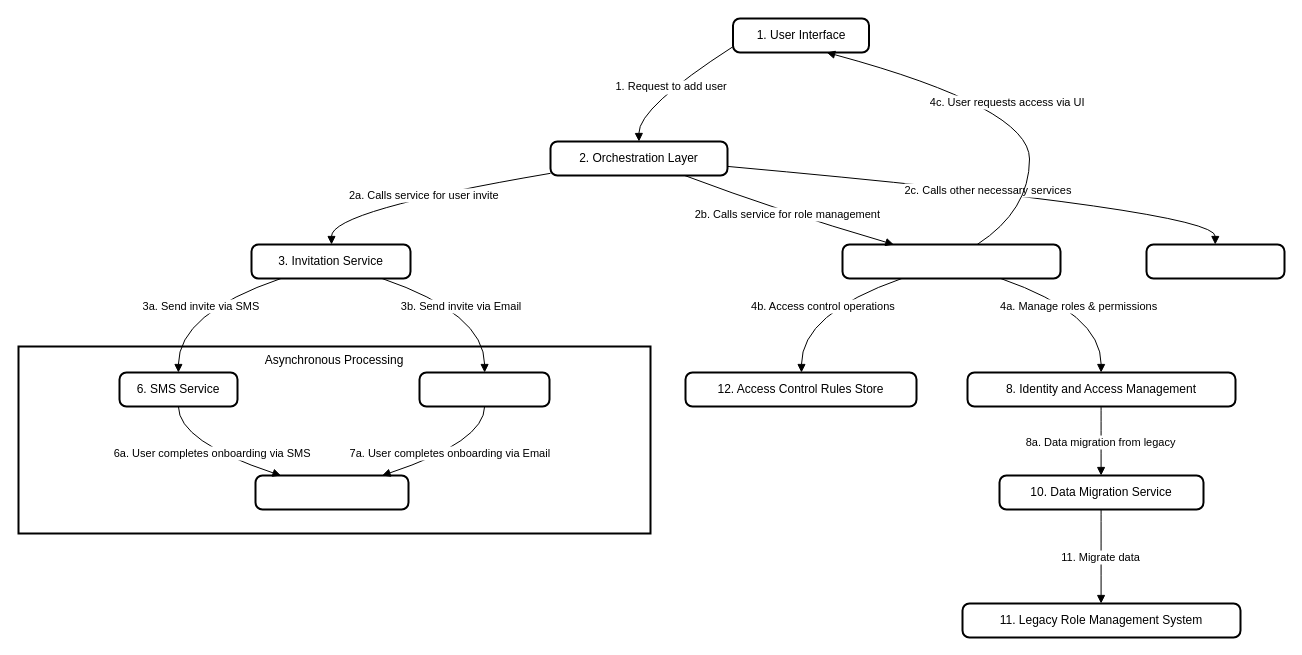
Image size: 1302x655. Some labels were removed from this diagram. The shapes that lost their labels are listed below. From the top down, each one's box as (x1, y1, x2, y2) in pixels, then its label:
(841, 243, 1061, 279): 4. Role Management Service
(1145, 243, 1285, 279): 5. Other Services
(418, 371, 550, 407): 7. Email Service
(254, 474, 409, 510): 9. User Onboarding
